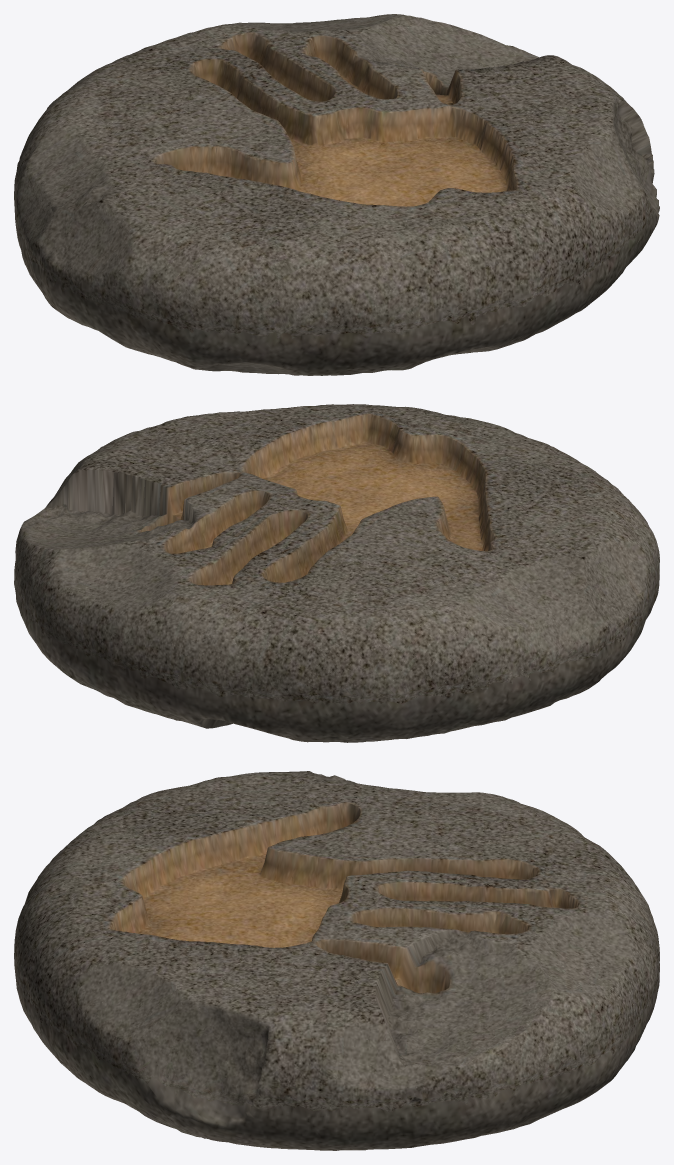
The model's file is opmet-coin_basalt.glb.
3 views of the same model, one above another, from view 1: azimuth 30°, elevation 25°; view 2: azimuth 150°, elevation 25°; view 3: azimuth 270°, elevation 25° (orthographic). The views are drawn at different scales.
Visible parts, largest first — view 1: basalt; view 2: basalt; view 3: basalt.
Part boxes in pixels (box(x1,y1,x2,y2)): basalt: box(14, 14, 659, 375); basalt: box(14, 404, 659, 742); basalt: box(14, 771, 659, 1150).
Size of the model in its own units: 2.06 by 0.5147 by 1.93.
1 material, 1 textured.
